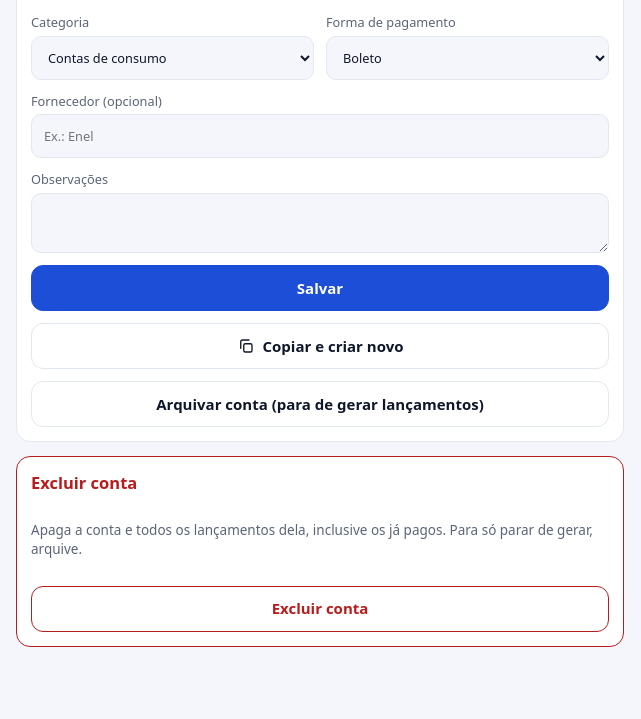
Test: Excluir conta › se a exclusão falhar, avisa e fica na tela
The width and height of the screenshot is (641, 719).
(page scrolled)
Click the button "Excluir conta" at coordinates (320, 608), box [31,586,609,632]
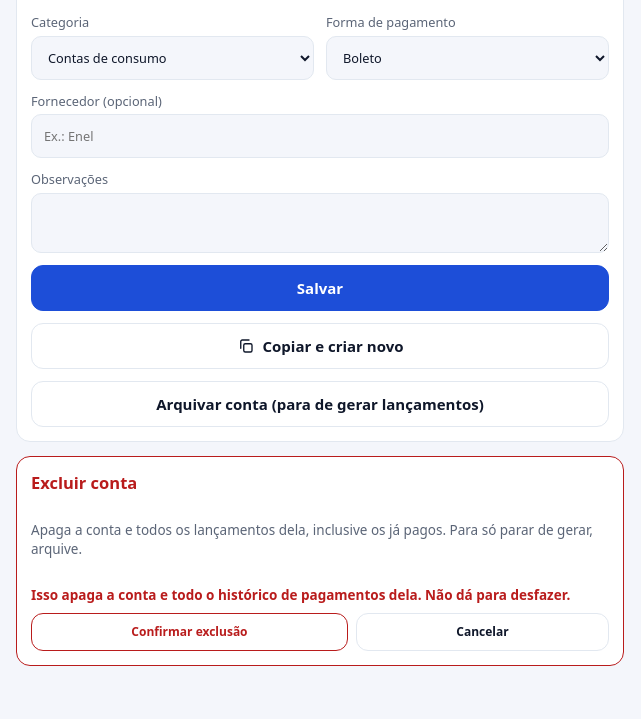
Click the button "Confirmar exclusão" at coordinates (189, 632), box [31,613,348,651]
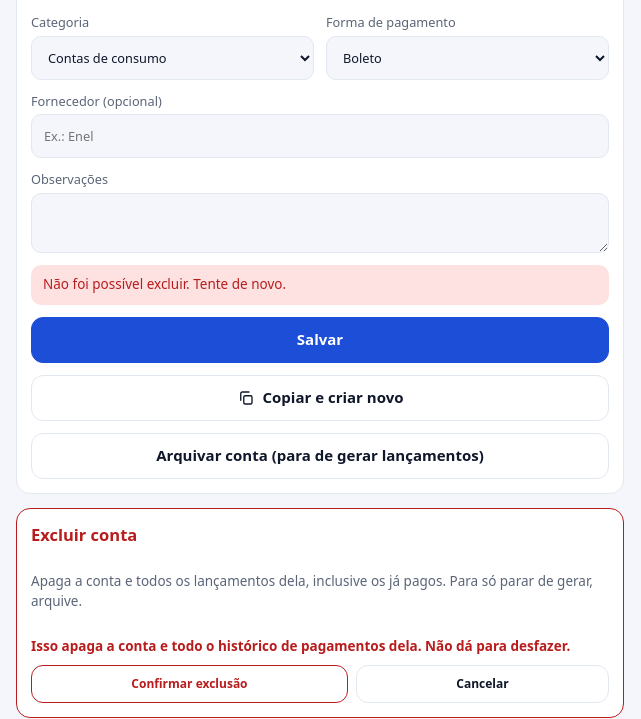
Expected: the text "Não foi possível excluir. Tente de novo." is shown, [31,266,609,305]
